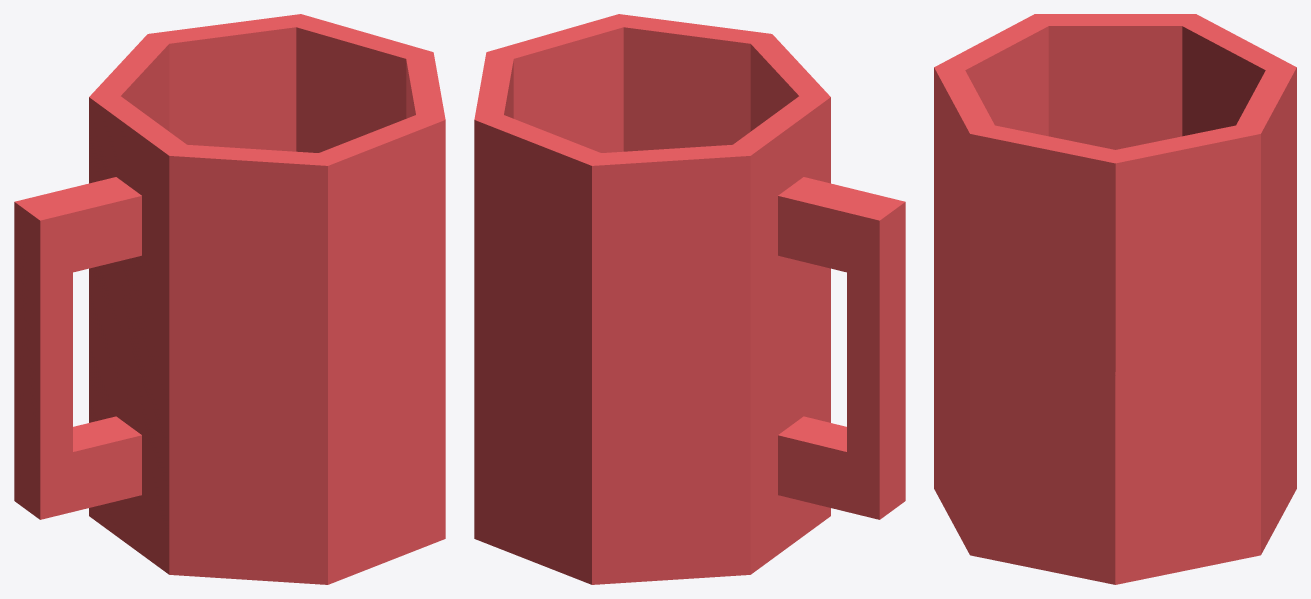
File: Mug 1.fbx
3 views of the same model, side by side, from view 1: azimuth 30°, elevation 25°; view 2: azimuth 150°, elevation 25°; view 3: azimuth 270°, elevation 25° (orthographic).
Parts seen in each view (by area): view 1: cup; view 2: cup; view 3: cup.
Part boxes in pixels (x1,y1,x2,y2): cup: (14,14,445,584); cup: (474,14,905,584); cup: (934,14,1296,584).
Bounding box in the file's own units: 10.15 × 10 × 7.8.
